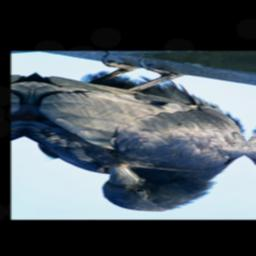Crow: (11, 52, 256, 215)
